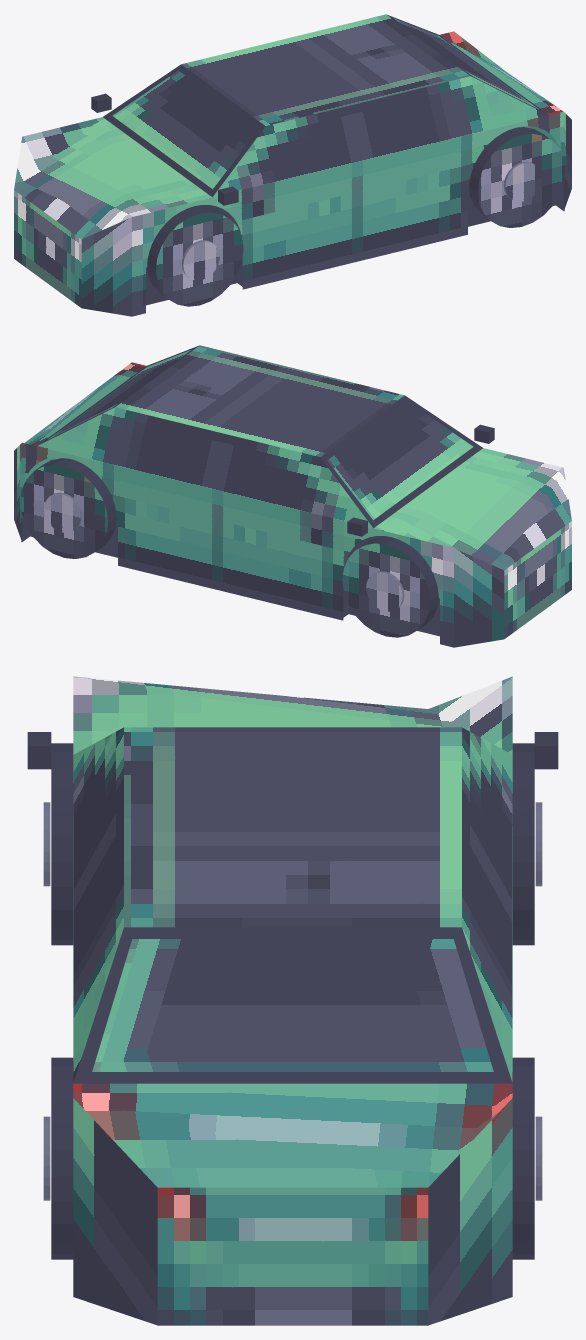
Rendered from car-17-v1.glb.
3 views of the same model, one above another, from view 1: azimuth 30°, elevation 25°; view 2: azimuth 150°, elevation 25°; view 3: azimuth 270°, elevation 25° (orthographic). The views are drawn at different scales.
Parts seen in each view (by area): view 1: Passenger-body-west, Roof, Cabin-windows-west, Hood, Windshield-glass, Tire_RL, Tire_FL, Front-fascia, Front-corner--1, Windshield-frame, Trunk, Rear-window-glass (+7 smaller); view 2: Passenger-body-east, Roof, Cabin-windows-east, Hood, Windshield-glass, Tire_RR, Tire_FR, Front-fascia, Front-corner-1, Windshield-frame, Trunk, Rear-window-glass (+7 smaller); view 3: Roof, Rear-window-glass, Trunk, Rear-fascia, Hood, Rear-corner-1, Rear-corner--1, Cabin-windows-east, Cabin-windows-west, Rear-window-frame, Tire_FL, Tire_FR (+4 smaller).
Part boxes in pixels (x1=…): Passenger-body-west: x1=132, y1=112, x2=564, y2=316; Roof: x1=181, y1=14, x2=470, y2=125; Cabin-windows-west: x1=213, y1=76, x2=548, y2=197; Hood: x1=14, y1=117, x2=211, y2=239; Windshield-glass: x1=112, y1=70, x2=258, y2=189; Tire_RL: x1=469, y1=127, x2=565, y2=227; Tire_FL: x1=147, y1=205, x2=243, y2=306; Front-fascia: x1=14, y1=190, x2=81, y2=307; Front-corner--1: x1=81, y1=217, x2=131, y2=316; Windshield-frame: x1=103, y1=64, x2=265, y2=197; Trunk: x1=440, y1=31, x2=563, y2=115; Rear-window-glass: x1=394, y1=18, x2=537, y2=108; Passenger-body-east: x1=21, y1=443, x2=453, y2=647; Roof: x1=115, y1=345, x2=404, y2=456; Cabin-windows-east: x1=37, y1=407, x2=372, y2=528; Hood: x1=374, y1=448, x2=571, y2=570; Windshield-glass: x1=327, y1=401, x2=473, y2=520; Tire_RR: x1=20, y1=458, x2=116, y2=558; Tire_FR: x1=342, y1=536, x2=438, y2=637; Front-fascia: x1=504, y1=521, x2=571, y2=638; Front-corner-1: x1=454, y1=548, x2=504, y2=647; Windshield-frame: x1=320, y1=395, x2=482, y2=528; Trunk: x1=24, y1=362, x2=145, y2=446; Rear-window-glass: x1=48, y1=349, x2=191, y2=439; Roof: x1=124, y1=727, x2=461, y2=927; Rear-window-glass: x1=92, y1=939, x2=493, y2=1071; Trunk: x1=73, y1=1083, x2=512, y2=1187; Rear-fascia: x1=157, y1=1187, x2=428, y2=1325; Hood: x1=73, y1=676, x2=512, y2=754; Rear-corner-1: x1=428, y1=1098, x2=512, y2=1325; Rear-corner--1: x1=73, y1=1098, x2=157, y2=1325; Cabin-windows-east: x1=462, y1=727, x2=512, y2=1082; Cabin-windows-west: x1=73, y1=727, x2=123, y2=1082; Rear-window-frame: x1=73, y1=927, x2=512, y2=1083; Tire_FL: x1=51, y1=743, x2=73, y2=945; Tire_FR: x1=512, y1=743, x2=534, y2=945.
Bounding box in the file's own units: 67 × 19 × 31.4.
1 material, 1 textured.
